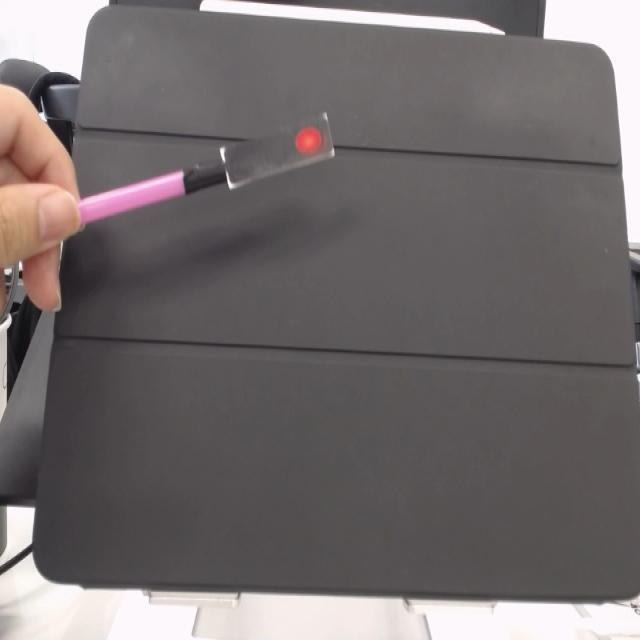traffic light: (225, 112, 336, 193)
